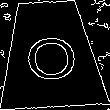O_N: (23, 27, 79, 81)
